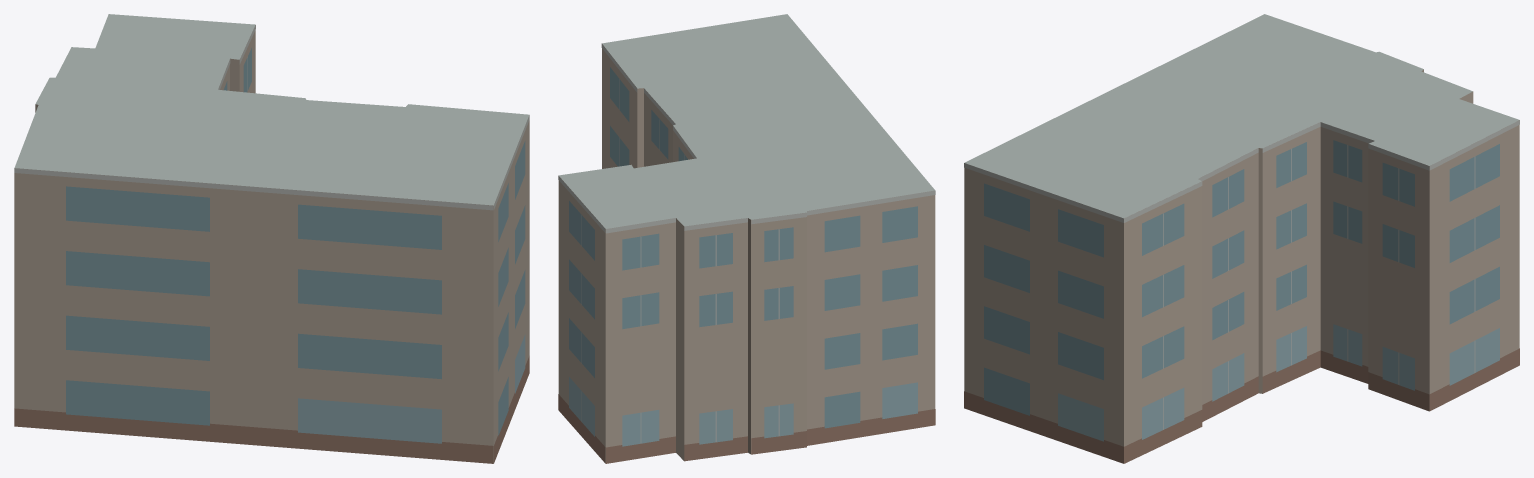
The model's file is survey-upis-32925412.glb.
3 renders of one model, left to right at view 1: azimuth 30°, elevation 25°; view 2: azimuth 150°, elevation 25°; view 3: azimuth 270°, elevation 25°, orthographic. The views are drawn at different scales.
Visible parts, largest first — view 1: survey-upis-32925412.tmp; view 2: survey-upis-32925412.tmp; view 3: survey-upis-32925412.tmp.
Part boxes in pixels (x1,y1,x2,y2): survey-upis-32925412.tmp: (14,14,529,463); survey-upis-32925412.tmp: (558,14,935,463); survey-upis-32925412.tmp: (964,14,1519,463).
Size of the model in its own units: 22.87 by 12.8 by 26.27.
